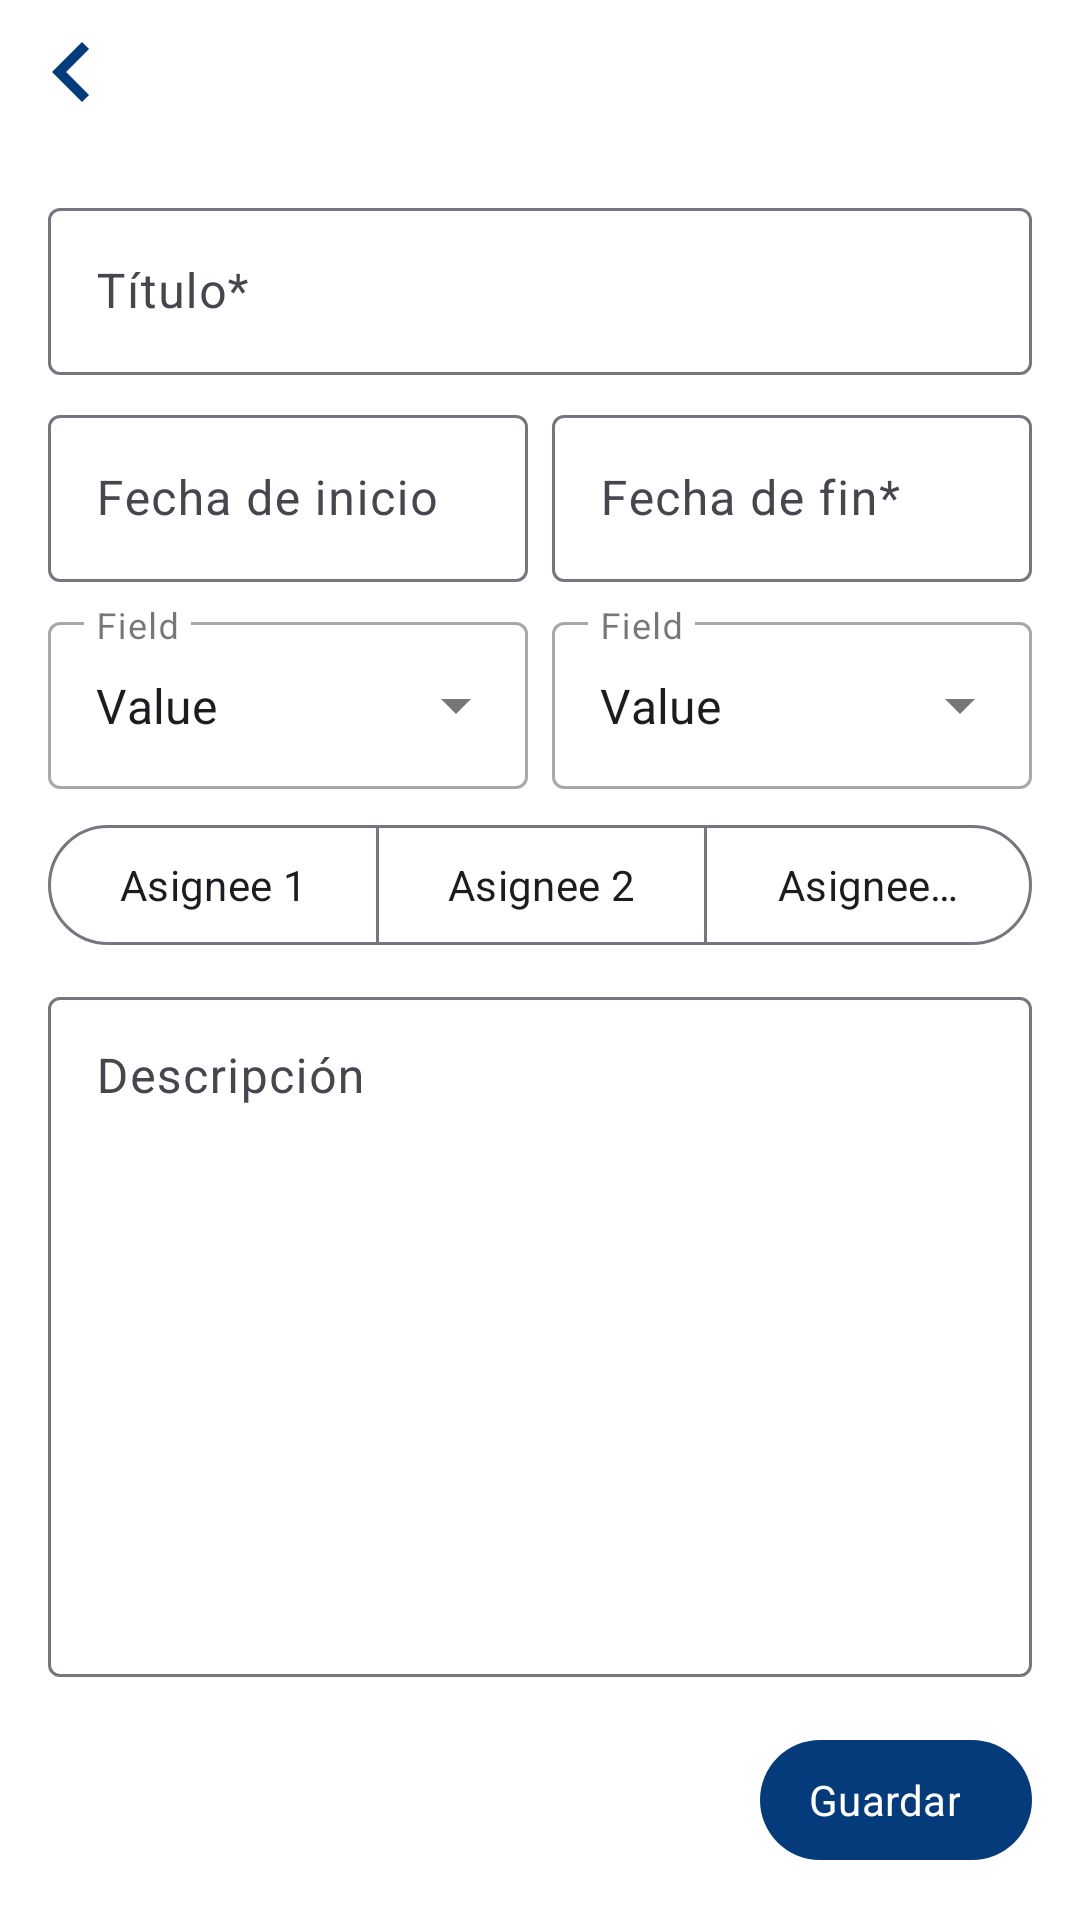

Where to tap for icons on this 1080x1920 app screen, as point (x, y):
chevron left: point (70, 72)
